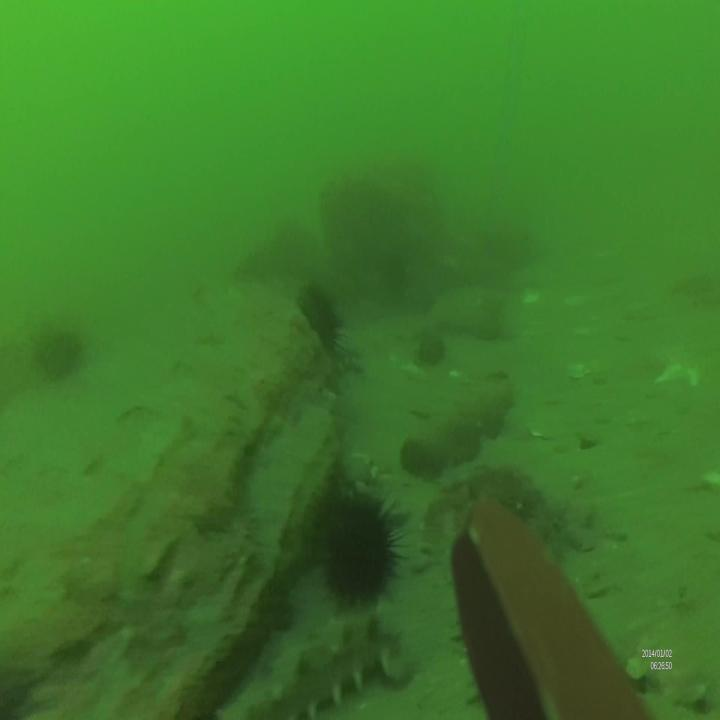echinus: (312, 487, 401, 609), (296, 283, 346, 354), (40, 326, 82, 380)
holothurian: (241, 611, 402, 720)
